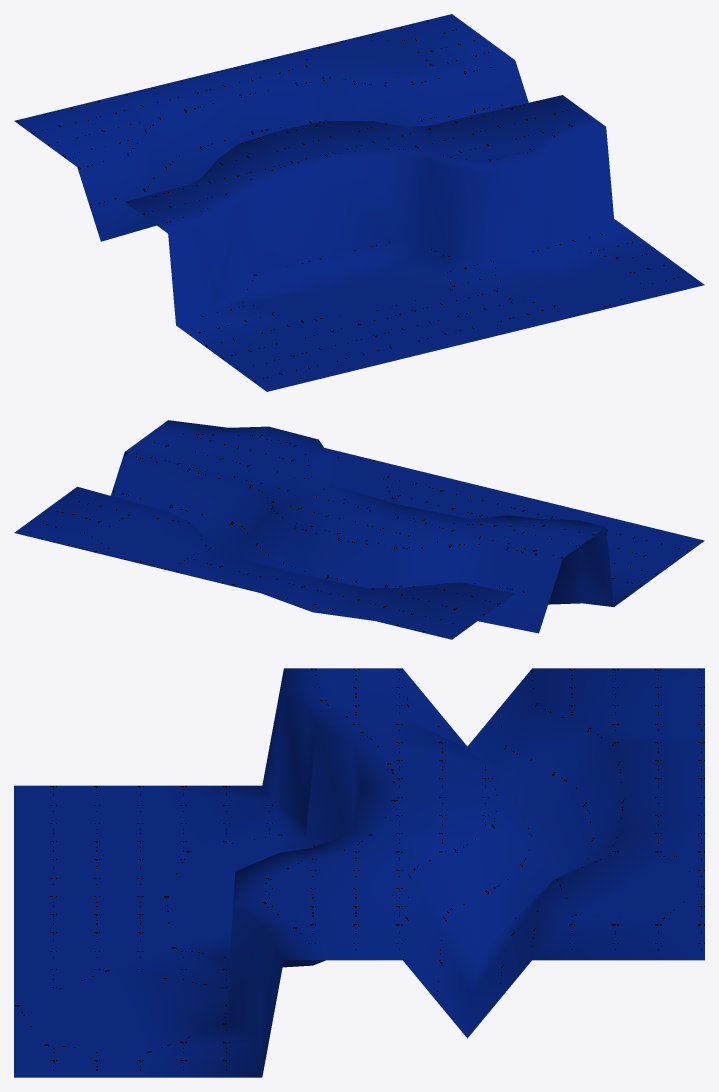
Rendered from GRD_S_C1_R2_2.fbx.
3 views of the same model, one above another, from view 1: azimuth 30°, elevation 25°; view 2: azimuth 150°, elevation 25°; view 3: azimuth 270°, elevation 25° (orthographic). The views are drawn at different scales.
Parts seen in each view (by area): view 1: material_00022000, material_00012000, material_C0042000, material_C0032000; view 2: material_00022000, material_C0042000, material_00012000, material_C0032000; view 3: material_00022000, material_C0042000, material_C0032000, material_00012000.
Part boxes in pixels (x1,y1,x2,y2): material_00022000: (14, 14, 704, 391); material_00012000: (156, 118, 613, 325); material_C0042000: (77, 60, 528, 241); material_C0032000: (241, 40, 646, 321); material_00022000: (14, 429, 704, 639); material_C0042000: (110, 452, 562, 633); material_00012000: (156, 420, 613, 606); material_C0032000: (90, 455, 394, 563); material_00022000: (14, 668, 704, 1077); material_C0042000: (402, 668, 625, 1038); material_C0032000: (14, 834, 704, 1053); material_00012000: (226, 668, 397, 1076).
Bounding box in the file's own units: 12800 × 2400 × 12800.
